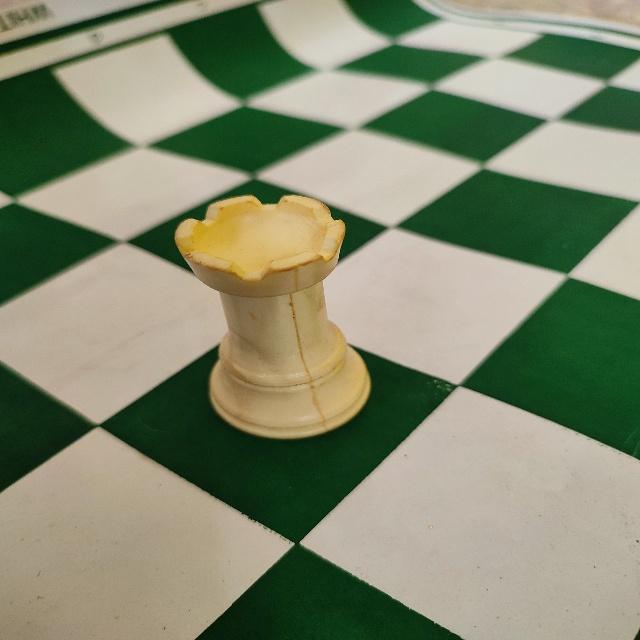Rook: (173, 190, 377, 444)
